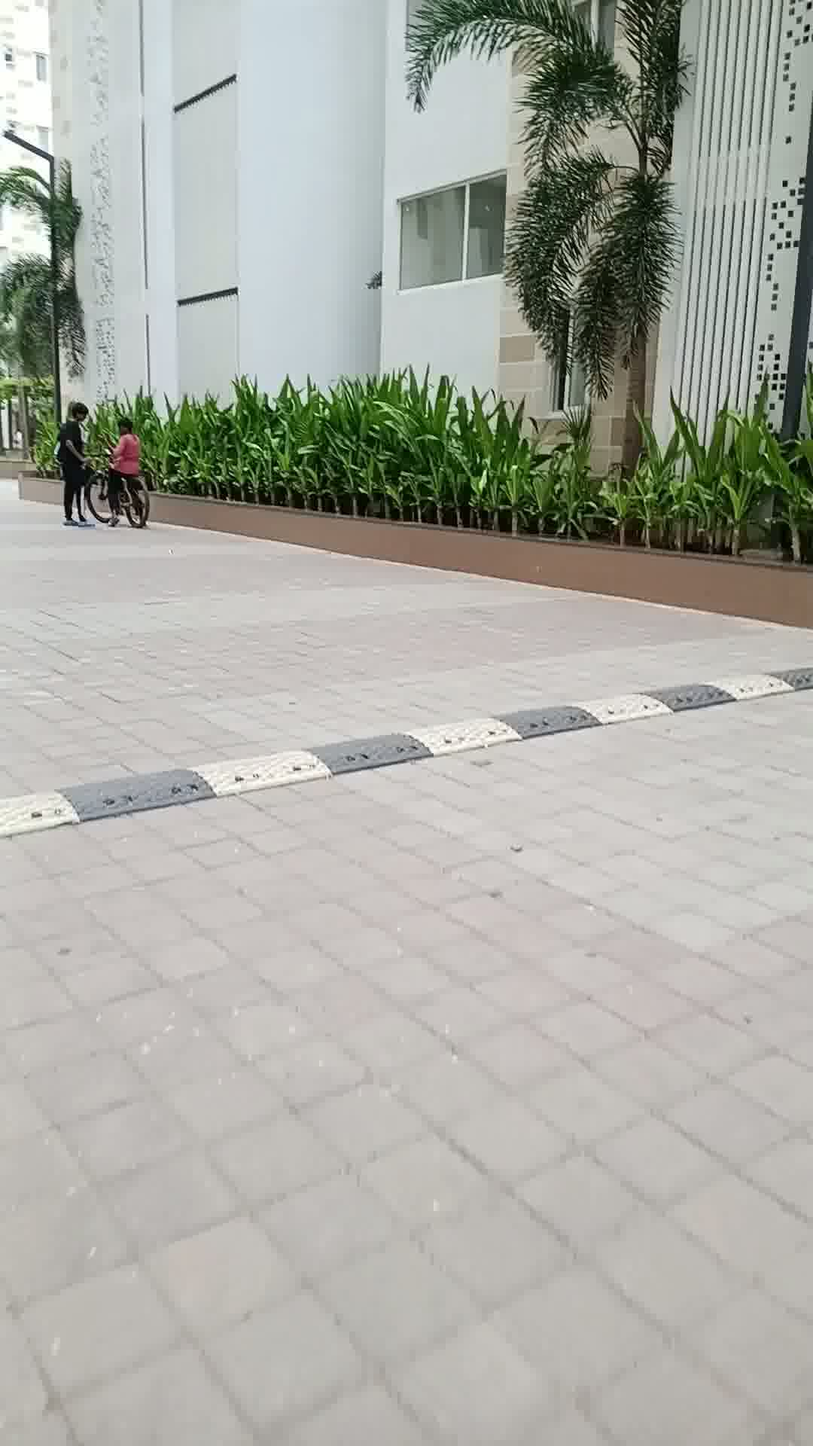bicycle: (81, 468, 164, 539)
person: (103, 400, 152, 536), (55, 400, 95, 531)
tree: (395, 0, 774, 492), (0, 155, 102, 408)
